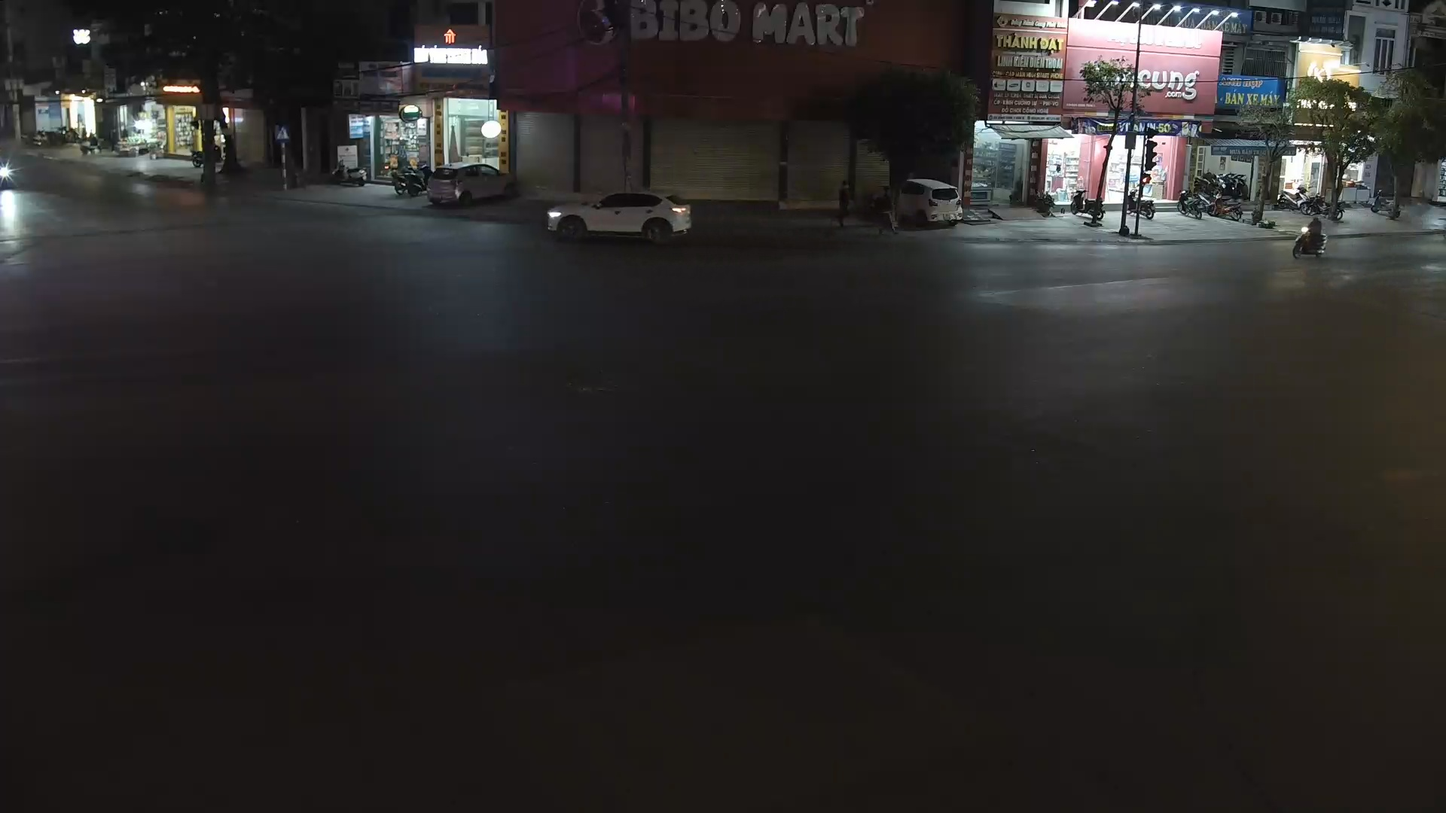car: (544, 191, 692, 245), (888, 176, 962, 231)
motorbike: (1290, 213, 1330, 261)
